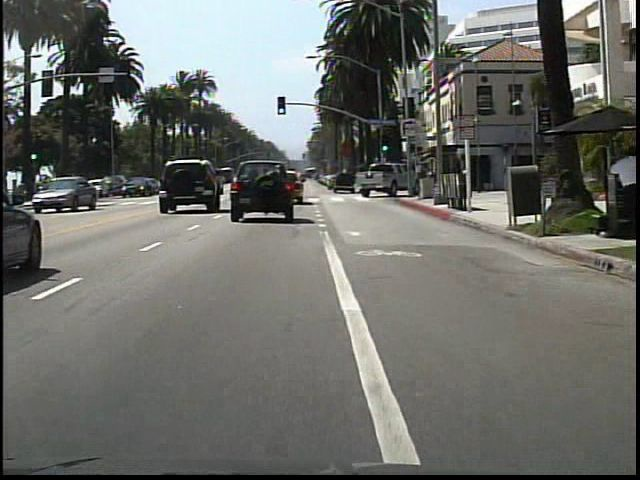person: (608, 148, 640, 235)
